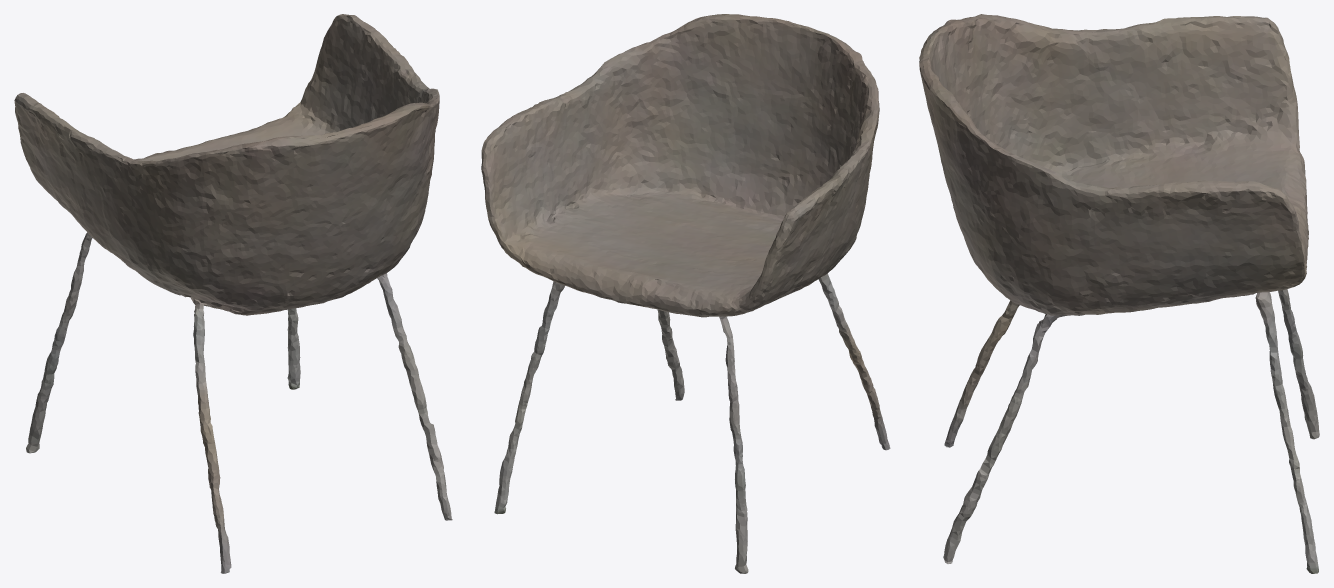
3 renders of one model, left to right at view 1: azimuth 30°, elevation 25°; view 2: azimuth 150°, elevation 25°; view 3: azimuth 270°, elevation 25°, orthographic. The views are drawn at different scales.
Parts seen in each view (by area): view 1: defaultobject; view 2: defaultobject; view 3: defaultobject.
Part boxes in pixels (x1,y1,x2,y2): defaultobject: (14,14,452,573); defaultobject: (481,14,890,573); defaultobject: (919,14,1319,573).
Size of the model in its own units: 0.6602 by 0.7904 by 0.6404.
